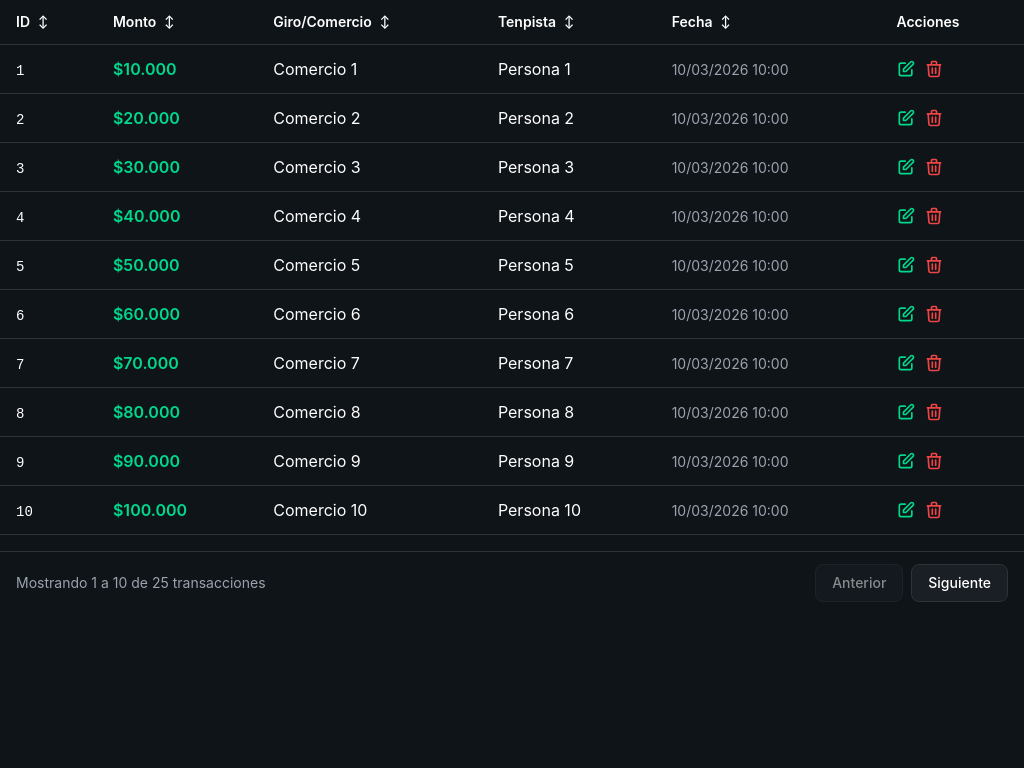
it: TransactionsTable › Paginación › debe navegar a la página anterior
Click the button "Siguiente" at coordinates (960, 583), box 911,564 -> 1008,602
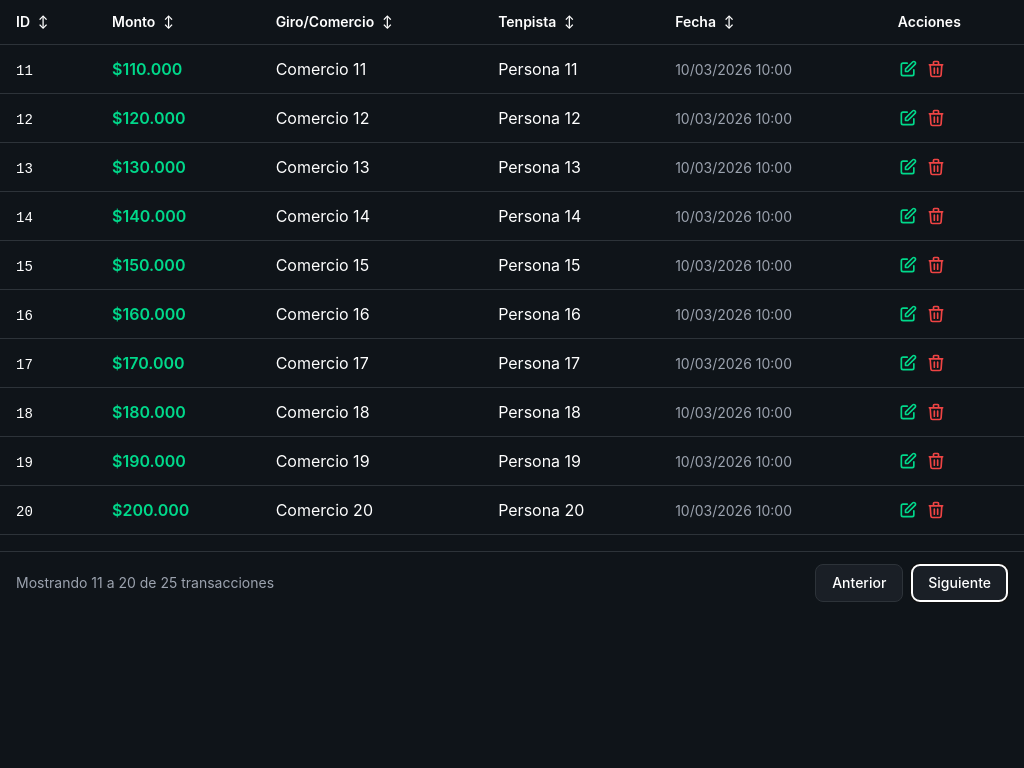
Click the button "Anterior" at coordinates (859, 583), box 815,564 -> 903,602
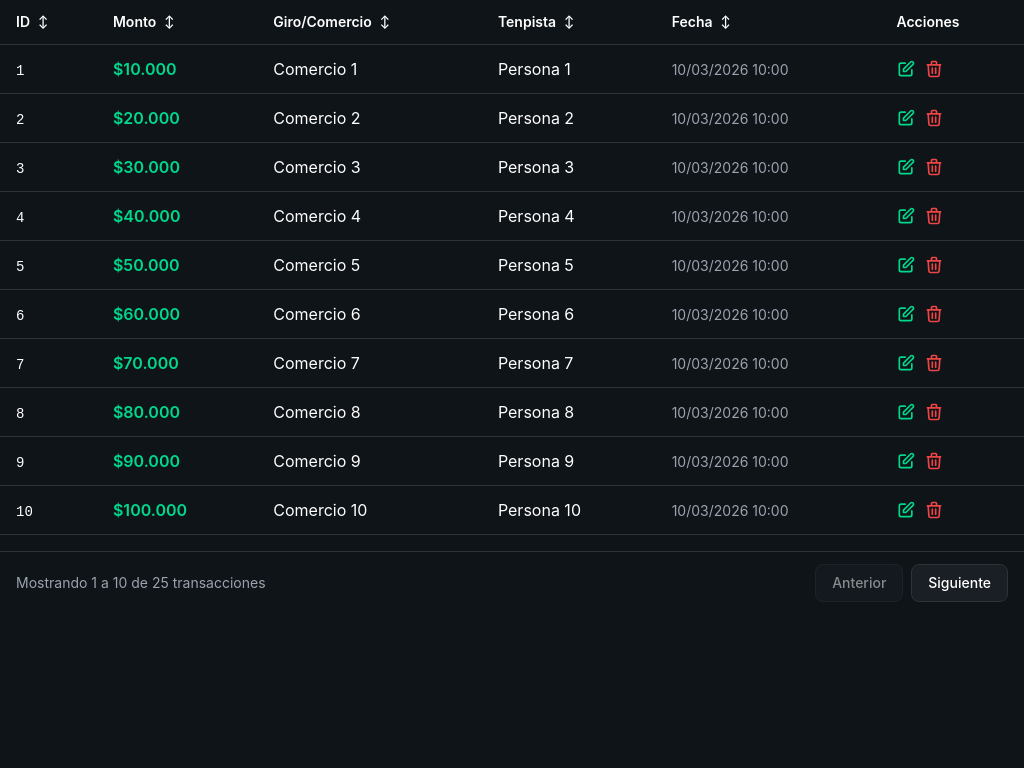
Expected: the text "Mostrando 1 a 10 de 25 transacciones" is shown, 16,573 -> 266,593
